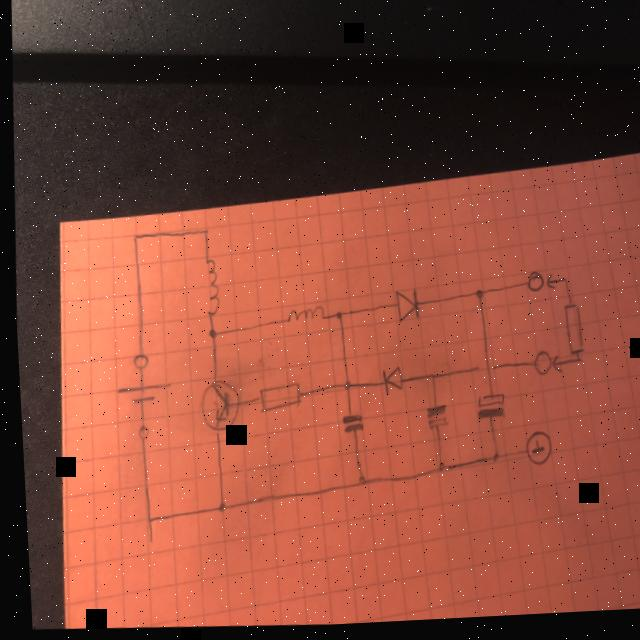capacitor: (471, 397, 502, 424), (420, 406, 446, 434), (336, 416, 361, 438)
crossover: (466, 362, 500, 384)
diode: (388, 291, 418, 329), (376, 368, 402, 399)
ground: (518, 434, 548, 472)
inductor: (199, 258, 219, 318), (283, 307, 322, 330)
junction: (203, 329, 214, 343), (338, 382, 349, 396), (211, 503, 221, 516), (352, 478, 362, 491), (431, 465, 441, 478), (471, 292, 480, 305), (127, 234, 137, 245), (331, 312, 339, 325), (139, 516, 148, 526), (423, 375, 432, 385), (198, 228, 206, 239), (486, 457, 494, 468), (570, 361, 578, 369), (557, 281, 564, 290)
resistor: (253, 383, 299, 416), (557, 308, 583, 360)
source: (109, 378, 169, 407)
transistor: (192, 379, 238, 435)
